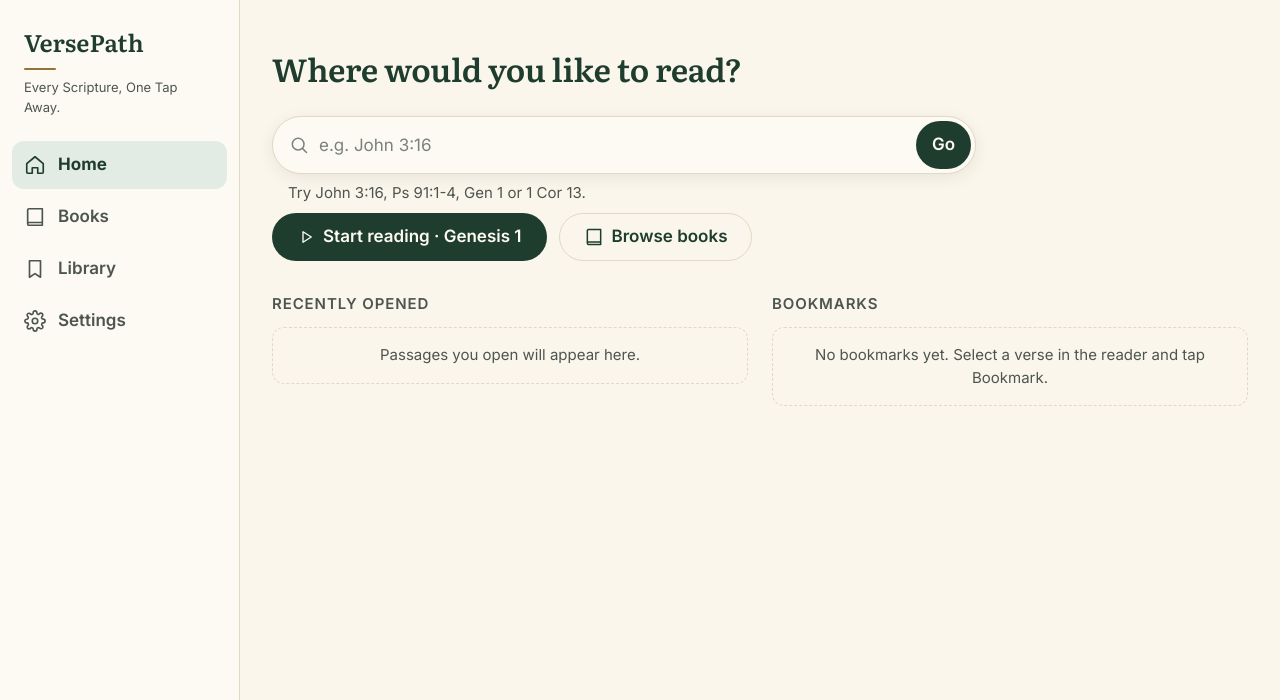
Test: jumping from the reader › shows validation errors inside the sheet
Type "John 3" into the search field named "bible reference" at (612, 145), box left=317, top=121, right=908, bottom=169
Then press Enter
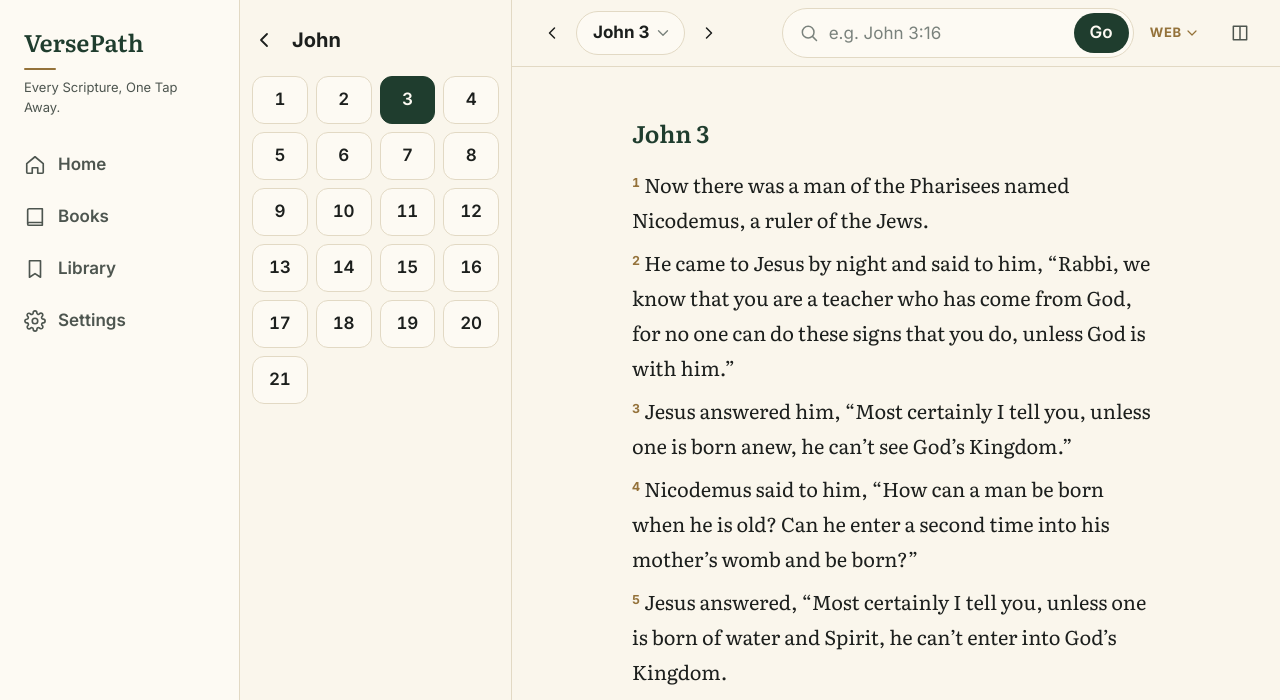
Click the button with aria-label "Go to another passage" at (630, 33), box left=576, top=11, right=684, bottom=55
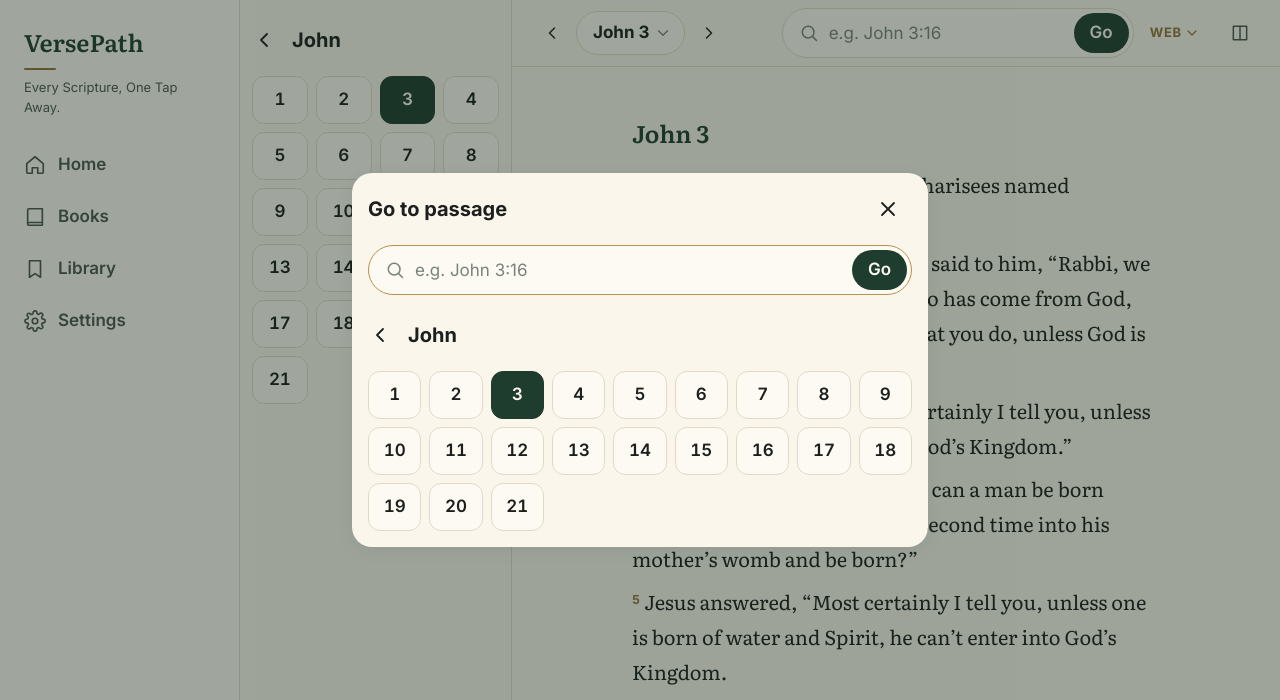
Type "Ph 1" into the search field at (628, 270), box left=413, top=250, right=844, bottom=290
Then press Enter
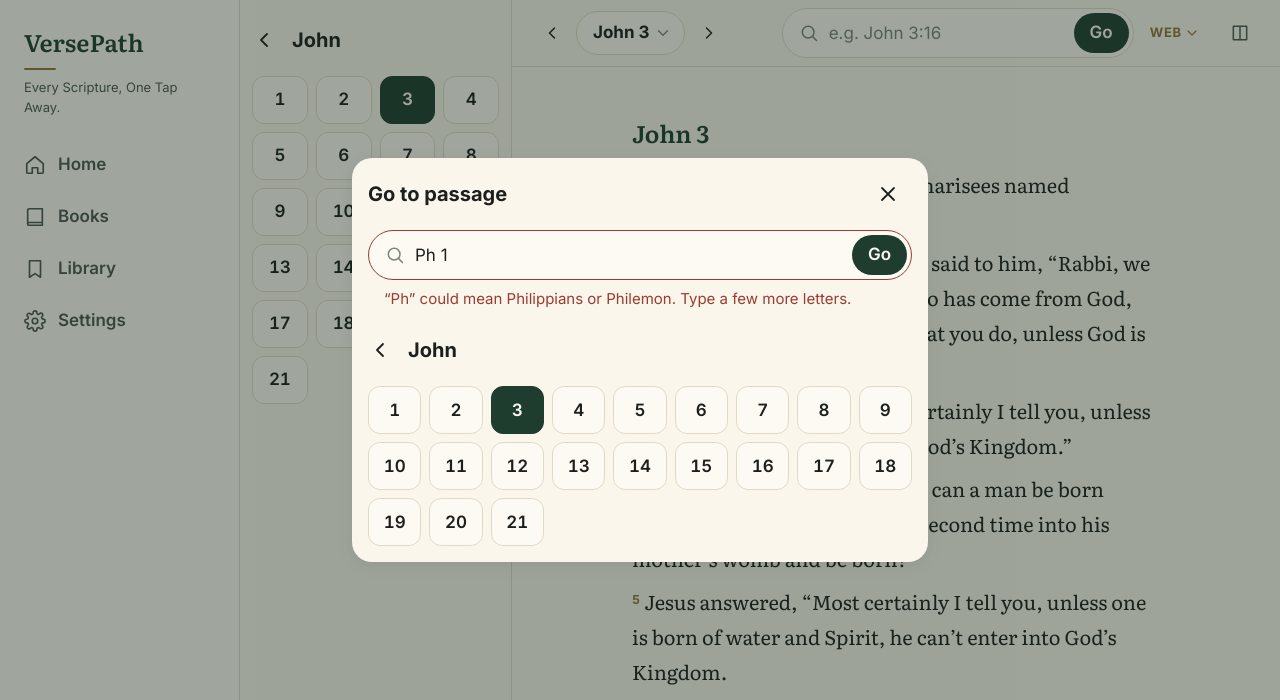
Check: the message shows "Philippians or Philemon", box left=384, top=289, right=852, bottom=308
